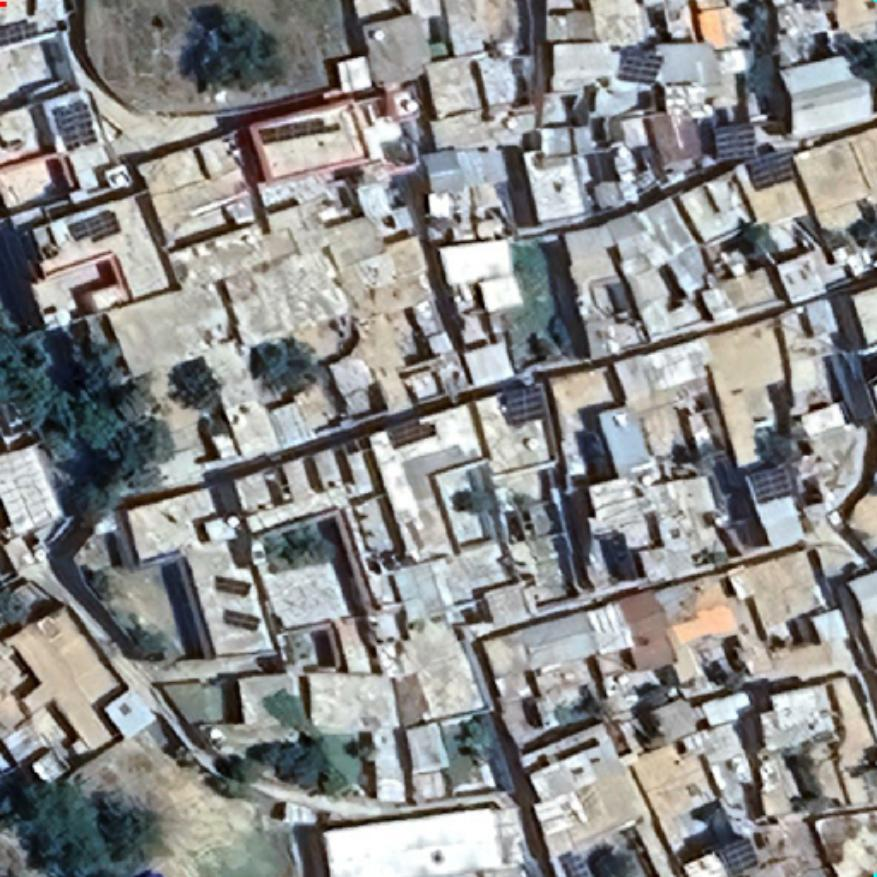Solarpanel: (497, 378, 551, 430), (742, 144, 800, 192), (255, 114, 341, 146), (51, 96, 100, 151), (744, 461, 798, 506), (64, 206, 124, 245), (614, 42, 666, 86), (382, 412, 440, 450), (710, 119, 760, 163), (718, 832, 762, 876), (0, 16, 42, 48), (220, 607, 262, 634), (212, 573, 254, 599)
